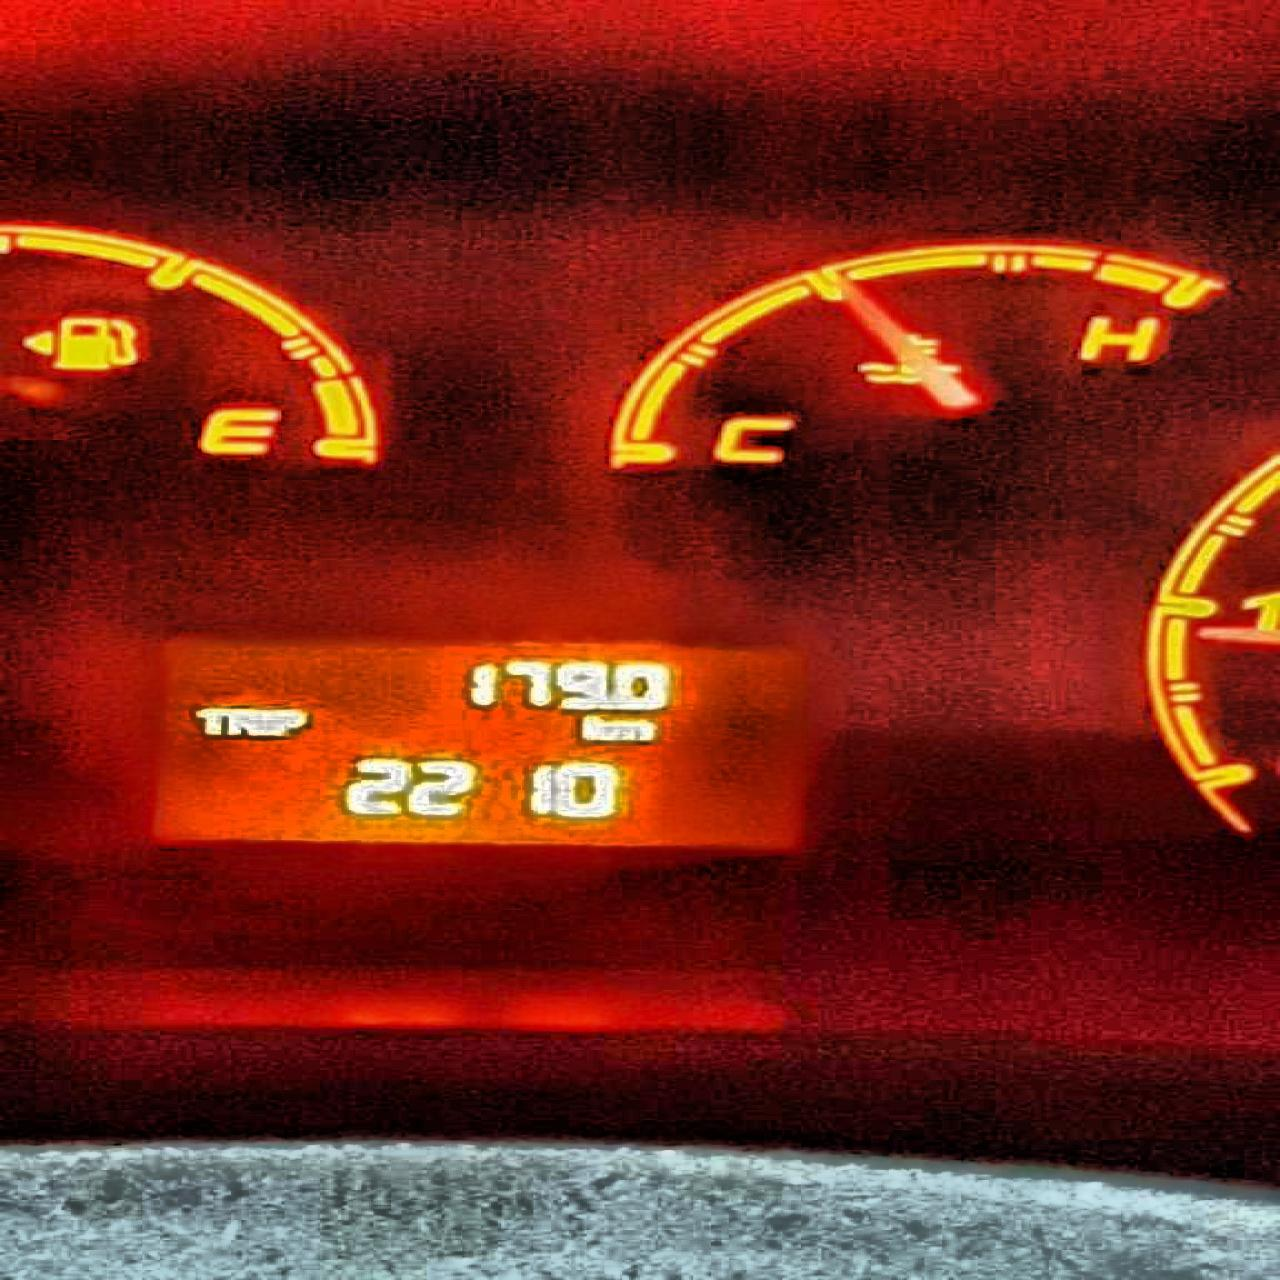-: (605, 692, 615, 712)
0: (553, 760, 625, 819), (613, 656, 674, 710)
1: (464, 658, 499, 708), (527, 757, 549, 824)
2: (342, 756, 411, 817), (411, 755, 469, 816)
7: (502, 658, 551, 708)
9: (556, 659, 608, 709)
X: (608, 716, 653, 742), (191, 704, 222, 736), (273, 708, 305, 736), (225, 704, 253, 736), (578, 714, 606, 742), (256, 707, 268, 742)
odometer: (142, 632, 809, 852)
